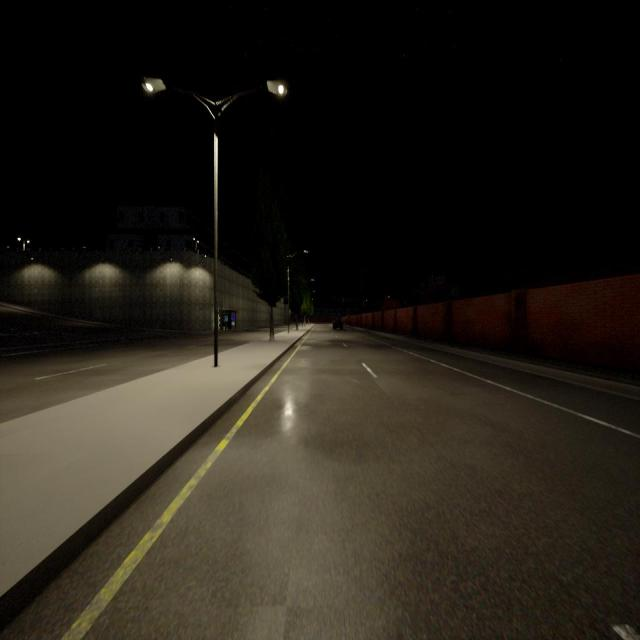Vehicle: (333, 320, 343, 330)
